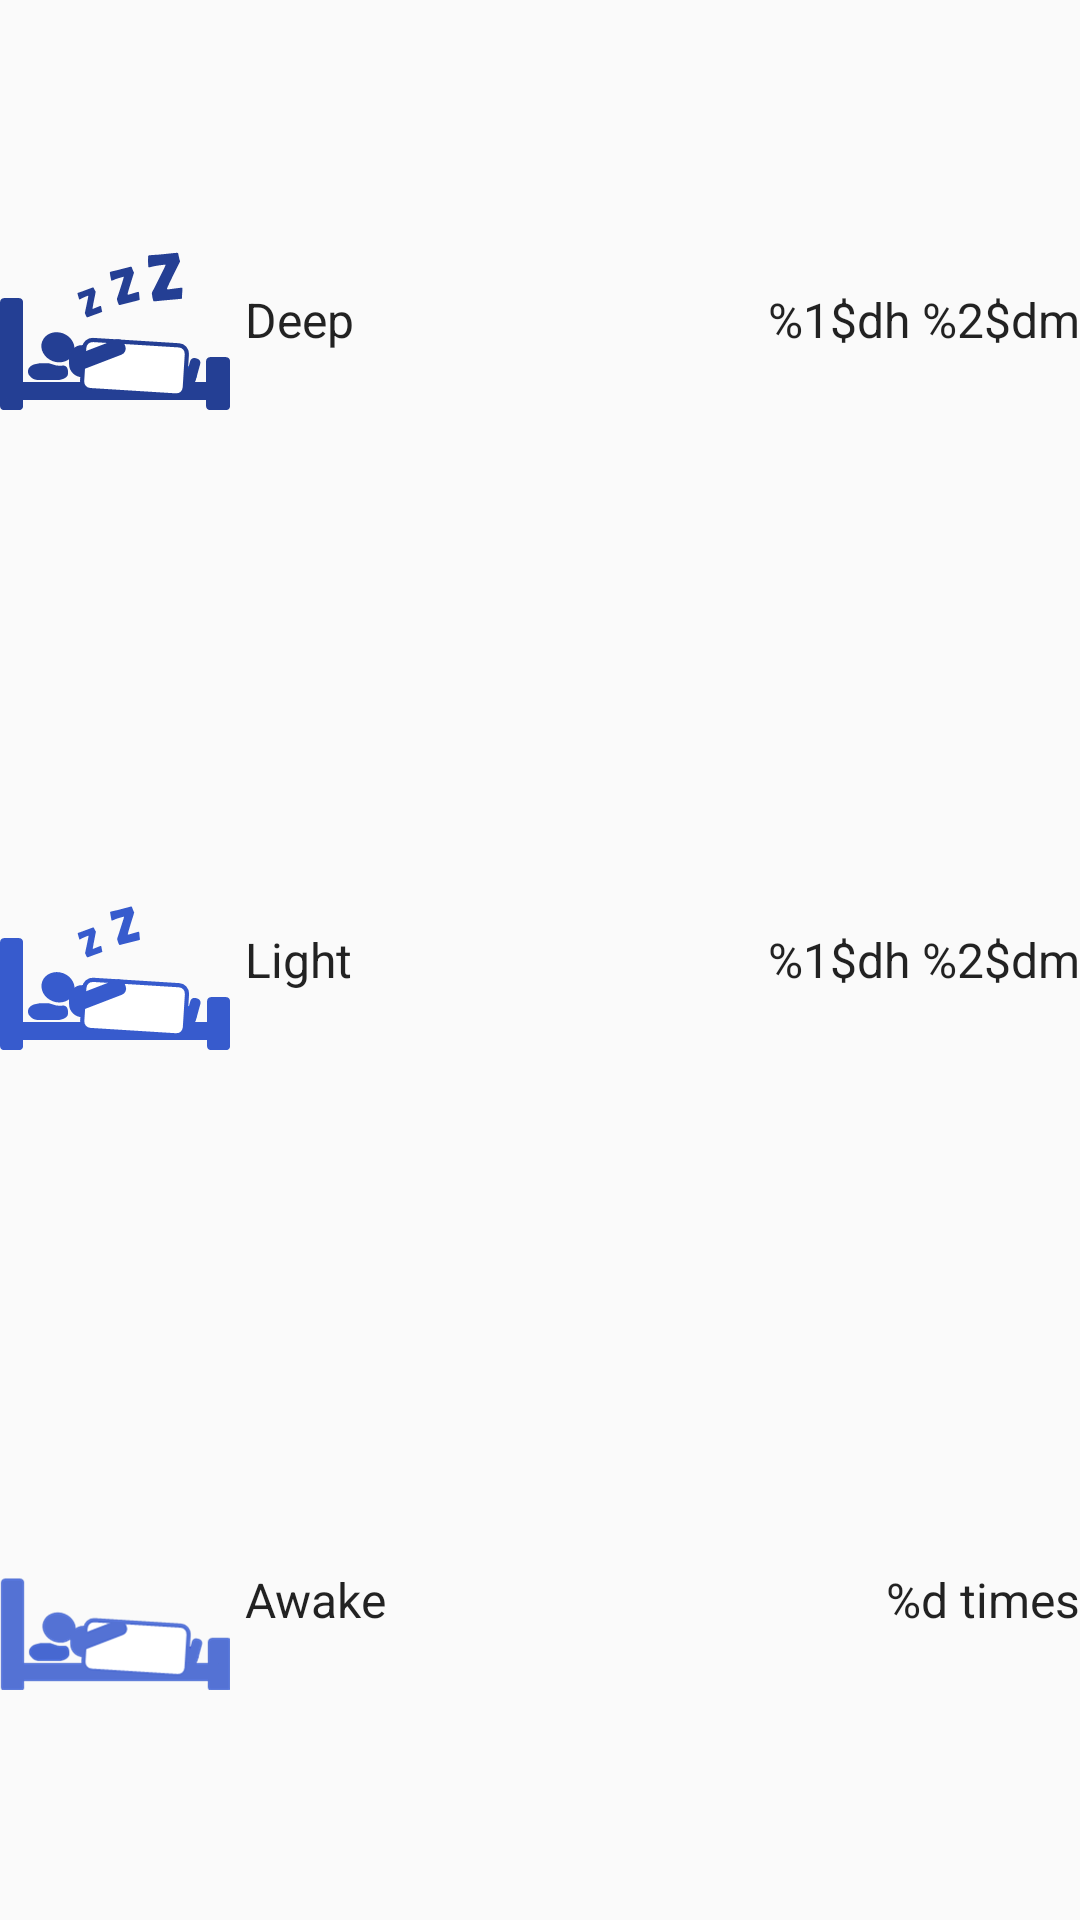

Where icons sit on this 1080px×1920px app screen, as BBox(x1, y1, x2, y2):
day sleep: BBox(0, 906, 230, 1050)
